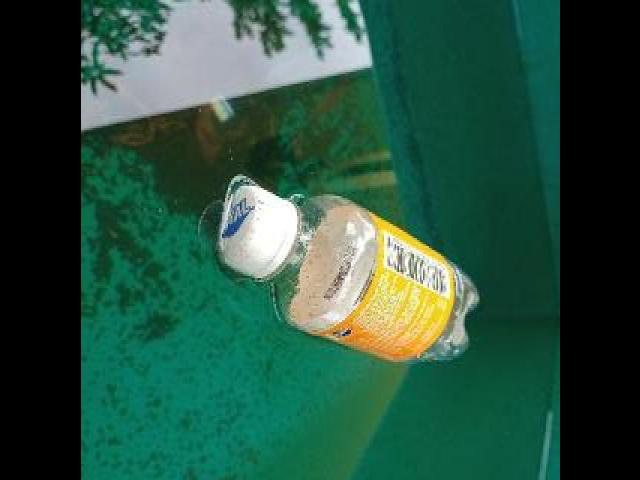Bottle: (212, 170, 484, 376)
